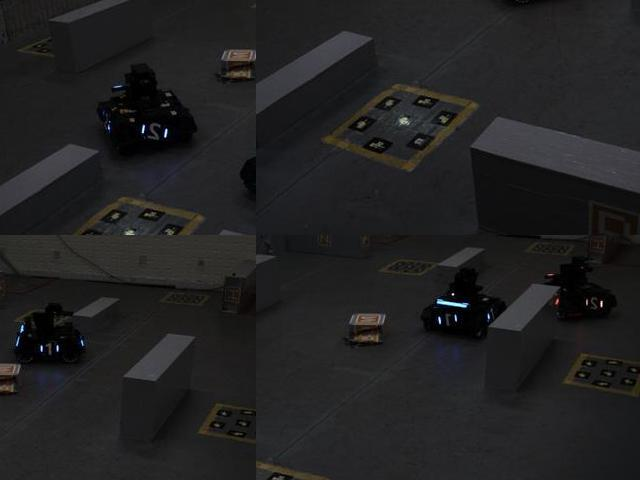armor: (137, 121, 175, 145), (32, 336, 63, 360), (435, 307, 463, 330), (582, 292, 604, 316)
